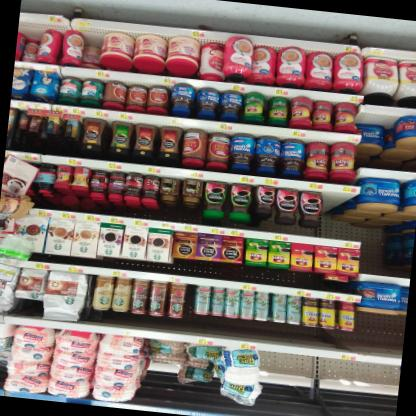empty_space: (317, 357, 400, 399), (255, 349, 314, 391), (350, 310, 406, 353)
